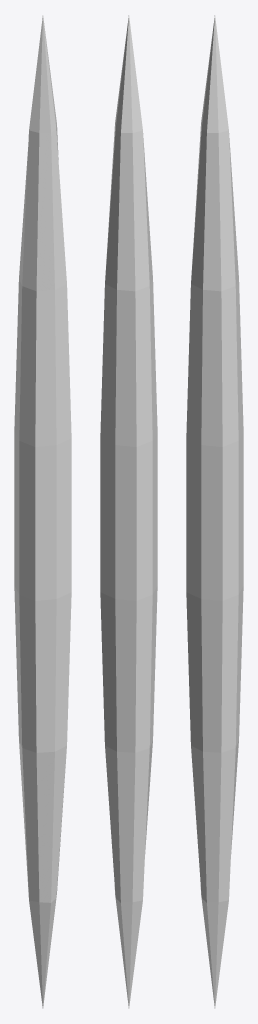
Rendered from Bolt.glb.
3 views of the same model, side by side, from view 1: azimuth 30°, elevation 25°; view 2: azimuth 150°, elevation 25°; view 3: azimuth 330°, elevation 25° (orthographic).
Parts seen in each view (by area): view 1: Cylinder; view 2: Cylinder; view 3: Cylinder.
Part boxes in pixels (x1,y1,x2,y2): Cylinder: (14, 15, 71, 1008); Cylinder: (100, 15, 157, 1008); Cylinder: (186, 15, 243, 1008).
Bounding box in the file's own units: 0.2163 × 4.34 × 0.2163.
1 material, 1 textured.
